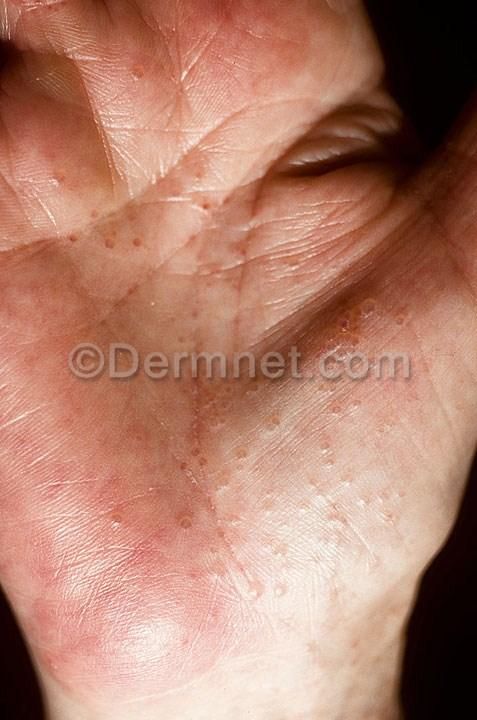Eczema: (13, 338, 208, 638), (228, 127, 407, 381), (30, 97, 209, 321), (226, 397, 393, 589)
